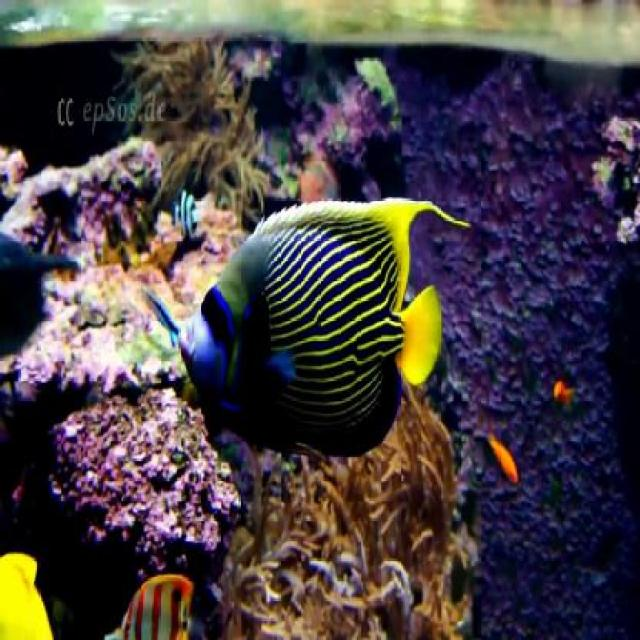AngelFish: (178, 197, 474, 459)
